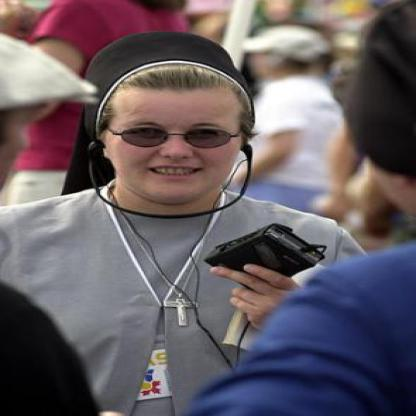face: (107, 66, 246, 205)
